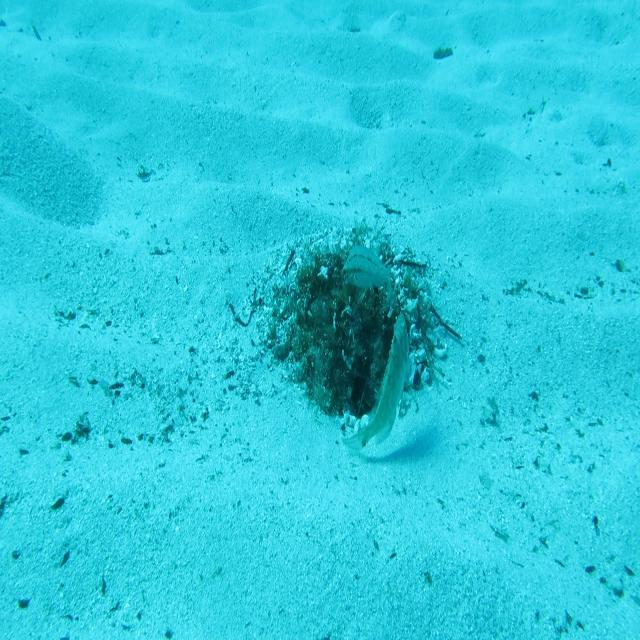GB: (341, 311, 410, 452)
core_nest: (322, 274, 378, 330)
female: (340, 243, 398, 305)
nest: (238, 203, 458, 445)
vegetation: (429, 46, 458, 62)
